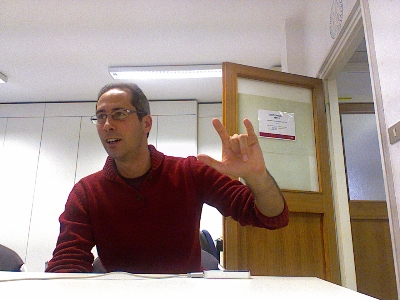我爱你: (194, 116, 267, 178)
